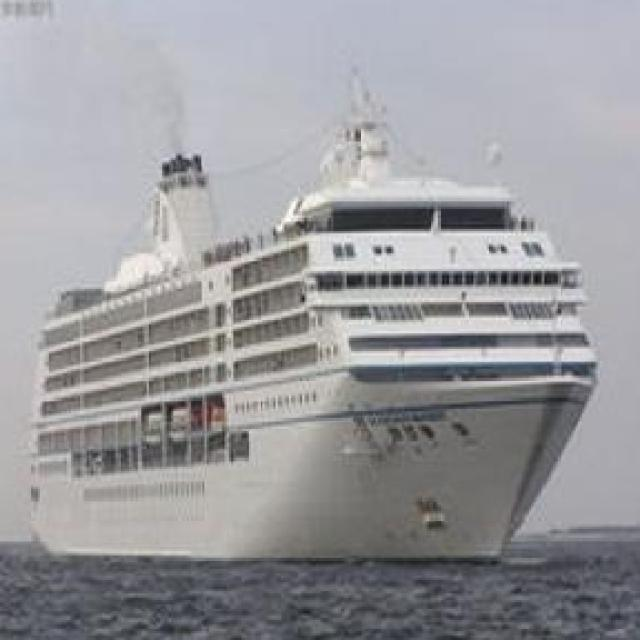passenger ship: (26, 111, 602, 559)
